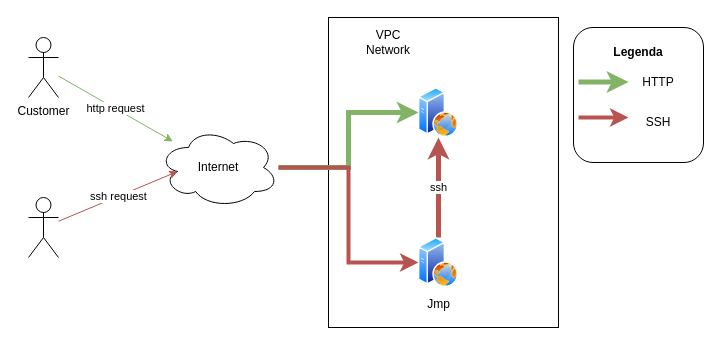
The diagram is 721 pixels wide and 345 high, and some of its shapes have lost their labels. The centre of each missing label's shape, as x and y in pixels:
Admin: point (43, 227)
www2: point (438, 112)
